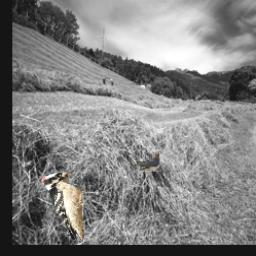Swallow: (135, 151, 160, 172)
Woodpecker: (42, 171, 86, 243)
